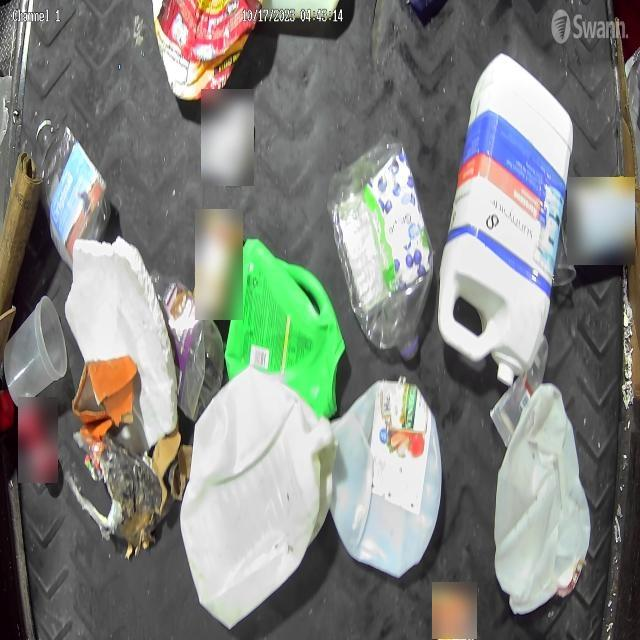milk_jug: (179, 371, 338, 636), (494, 380, 590, 614)
non_white_jug: (224, 230, 345, 419), (327, 378, 443, 574)
plastic_bottle: (328, 137, 434, 359), (37, 120, 113, 256)
